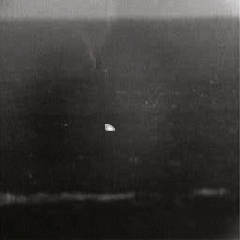Target: (103, 123, 116, 133)
